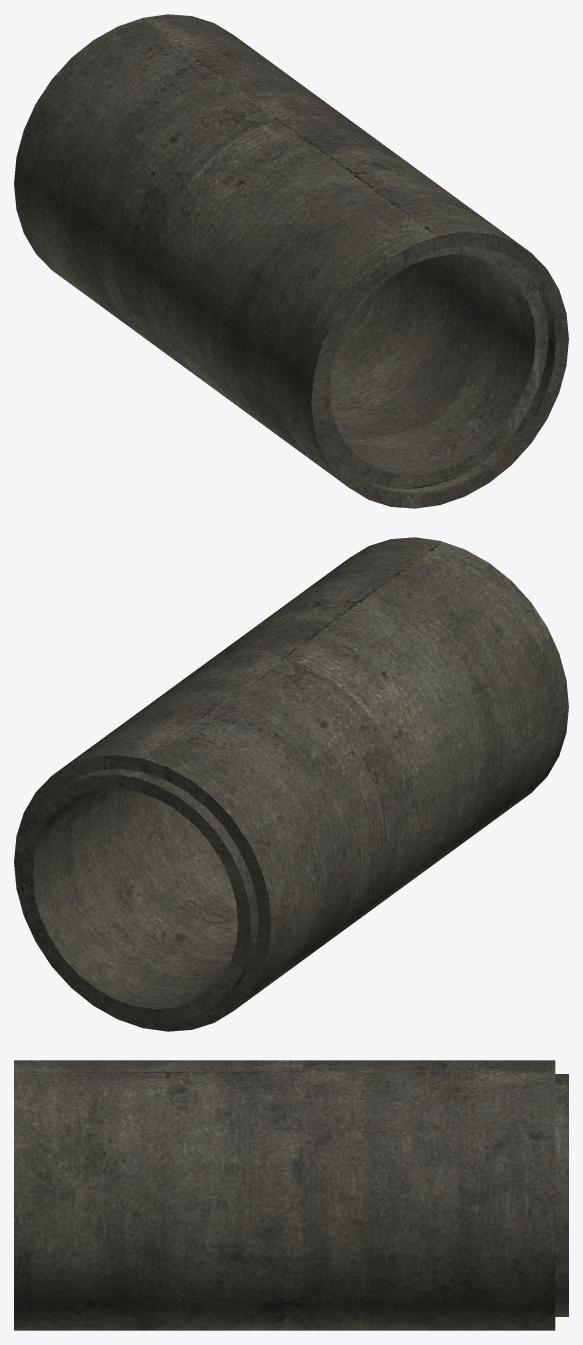
File: concrete_pipe_hm_1_middle.obj
The picture shows the model from 3 angles, top to bottom: view 1: azimuth 30°, elevation 25°; view 2: azimuth 150°, elevation 25°; view 3: azimuth 270°, elevation 25°; orthographic projection. The views are drawn at different scales.
Visible parts, largest first — view 1: concrete_pipe_hm_1_middle; view 2: concrete_pipe_hm_1_middle; view 3: concrete_pipe_hm_1_middle.
Boxes of the visible parts, bbox=[...] form: concrete_pipe_hm_1_middle: bbox=[14, 14, 568, 508]; concrete_pipe_hm_1_middle: bbox=[14, 537, 568, 1031]; concrete_pipe_hm_1_middle: bbox=[14, 1060, 568, 1330].
Size of the model in its own units: 2 by 2 by 4.1.
